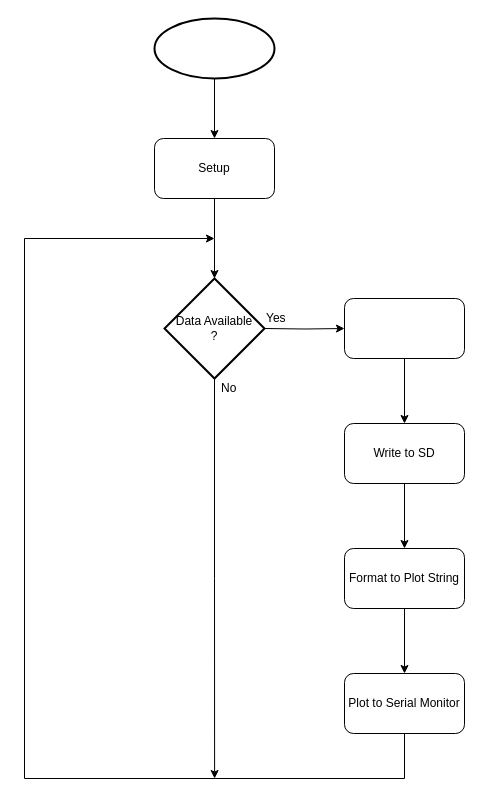
The diagram is 482 pixels wide and 804 high, and some of its shapes have lost their labels. Each missing label, with the centre of its shape:
Read Data: (x=404, y=328)
Start: (x=214, y=48)
